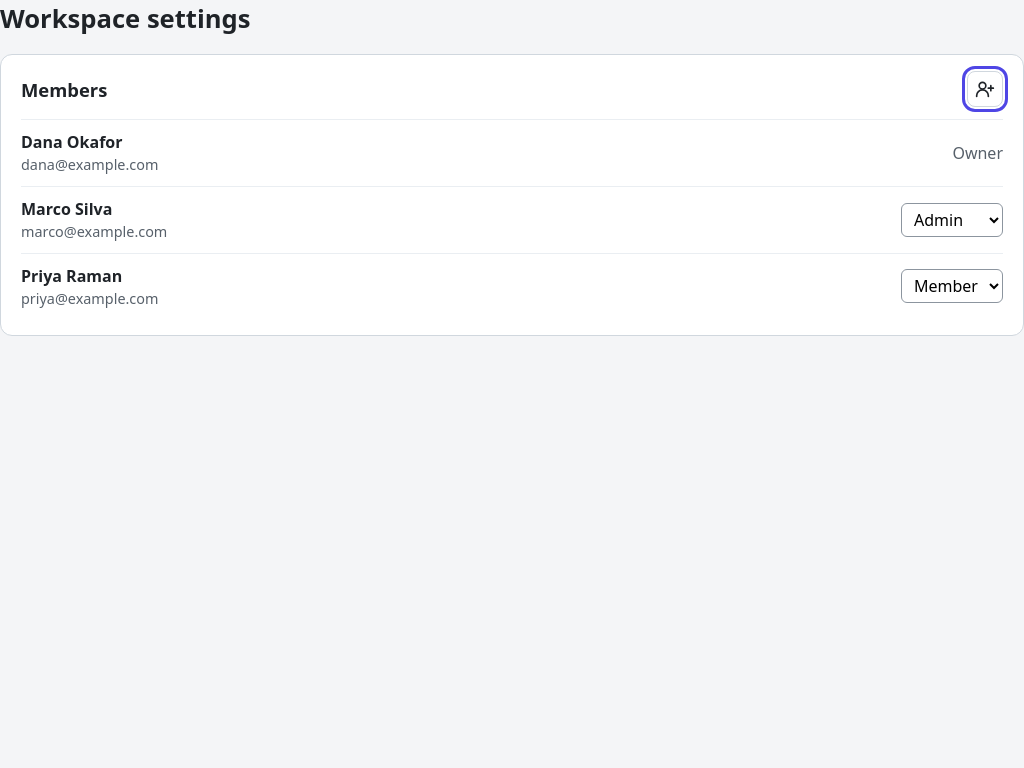
Test case: BEFORE: documented failures › errors are red text only: no aria-invalid, no aria-describedby, no focus move
Press Enter
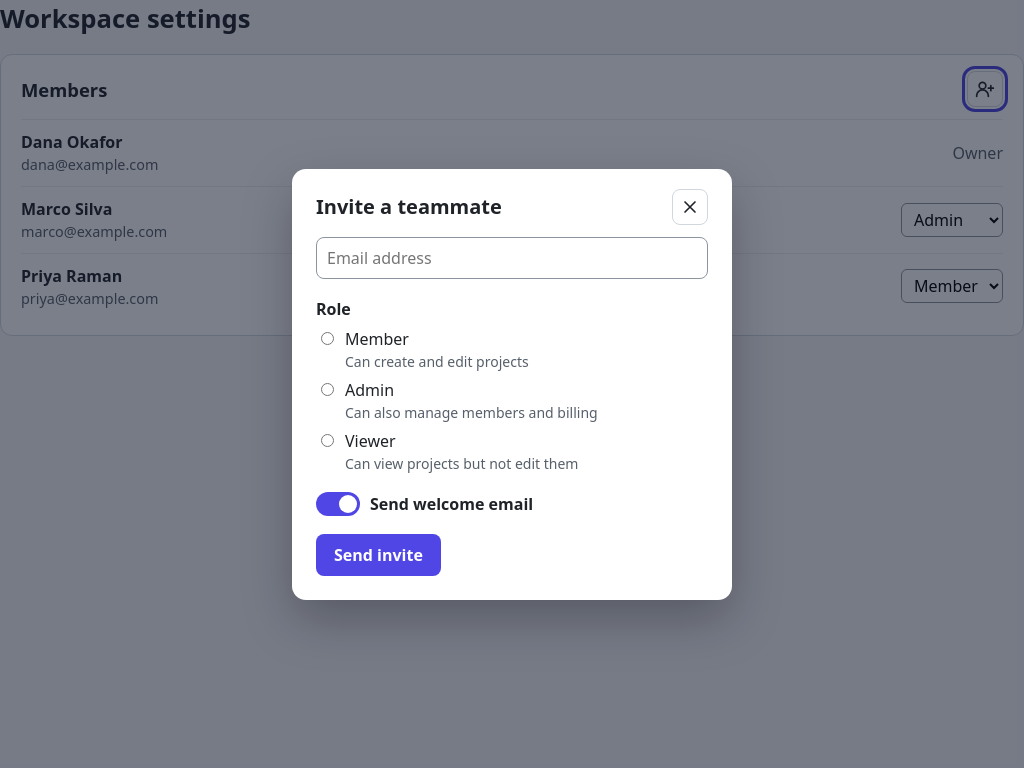
Click the button "Send invite" at {"x": 378, "y": 554}, box top-left (316, 534), bottom-right (441, 576)
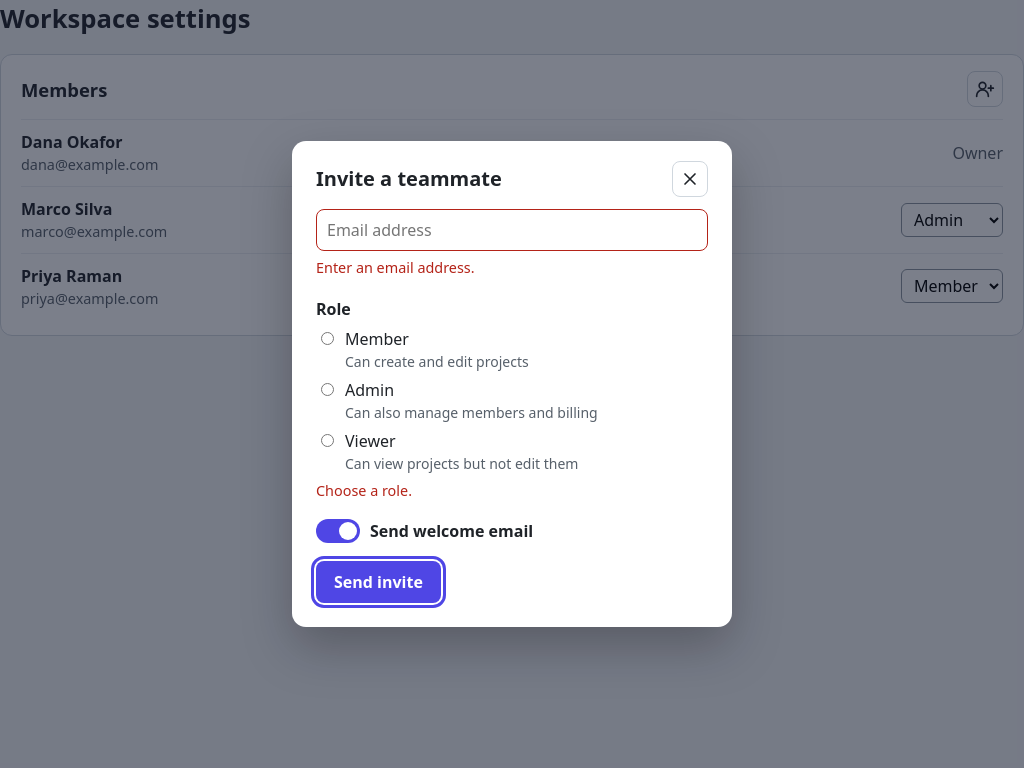
Expected: the text "Enter an email address." is shown, top-left (316, 258), bottom-right (475, 277)
Expected: the text "Choose a role." is shown, top-left (316, 480), bottom-right (412, 500)
